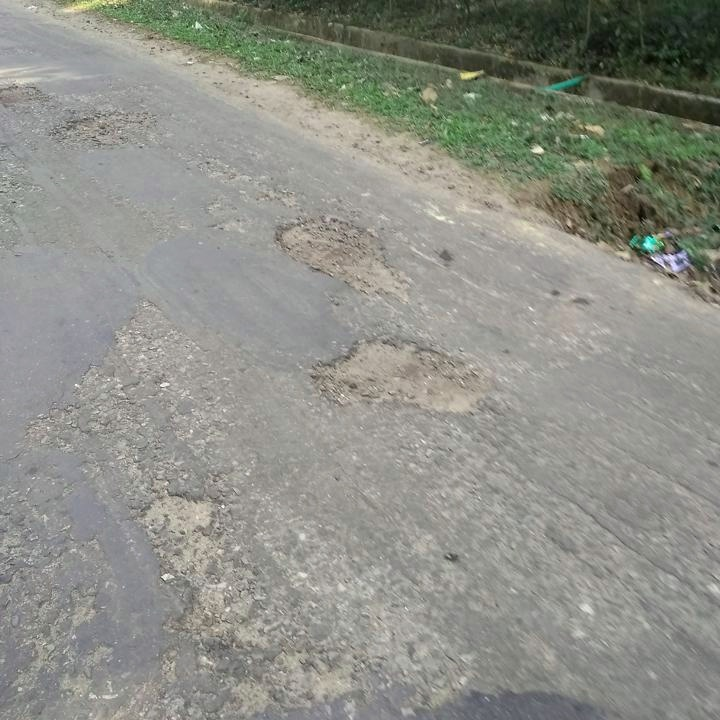pothole: (308, 330, 486, 419), (268, 214, 404, 300), (133, 485, 217, 544), (54, 107, 146, 151), (0, 78, 50, 109)
